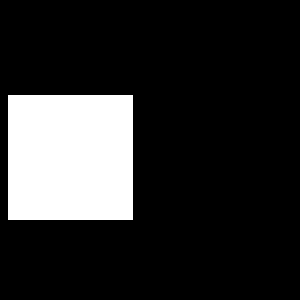circle: (8, 95, 133, 220)
